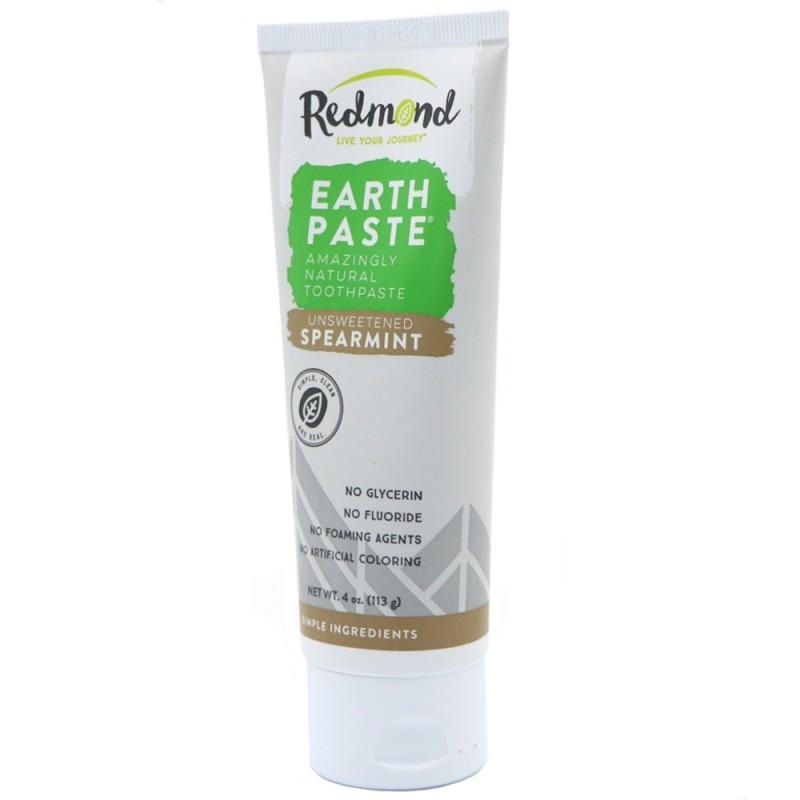toothpaste: (225, 4, 576, 779)
